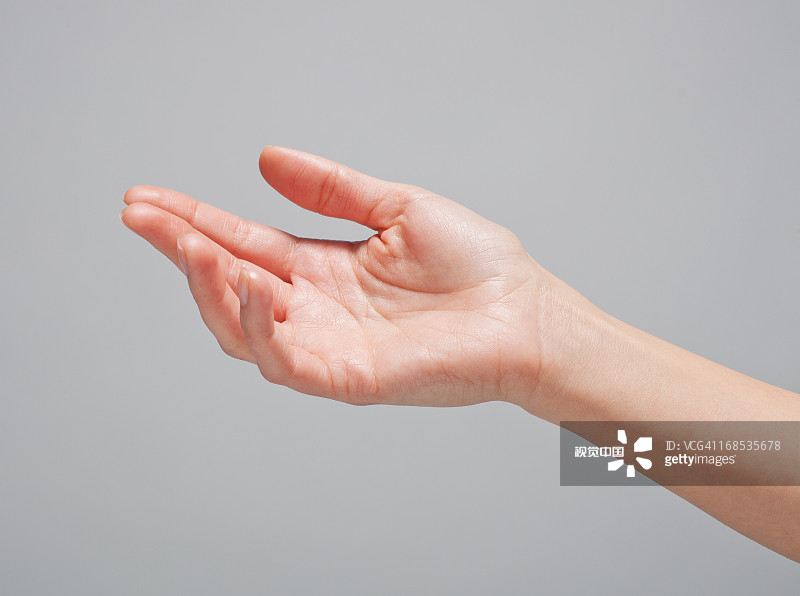no-phone: (87, 125, 553, 428)
